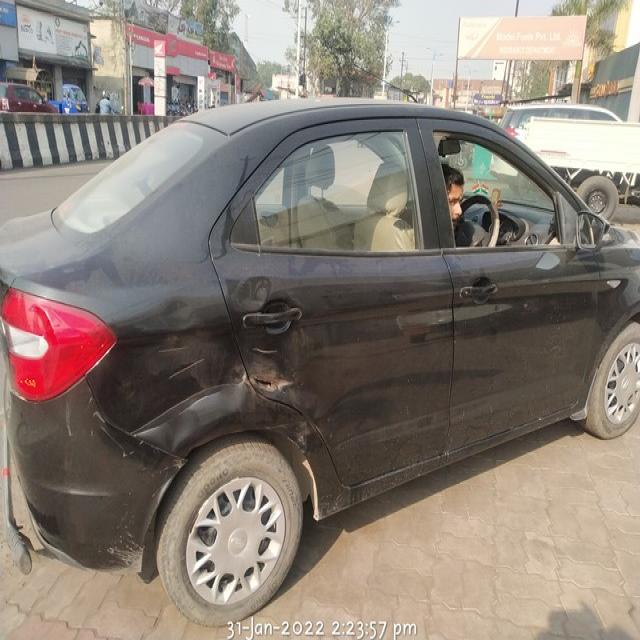damage: (113, 313, 244, 434), (224, 268, 275, 318), (247, 358, 295, 393)
